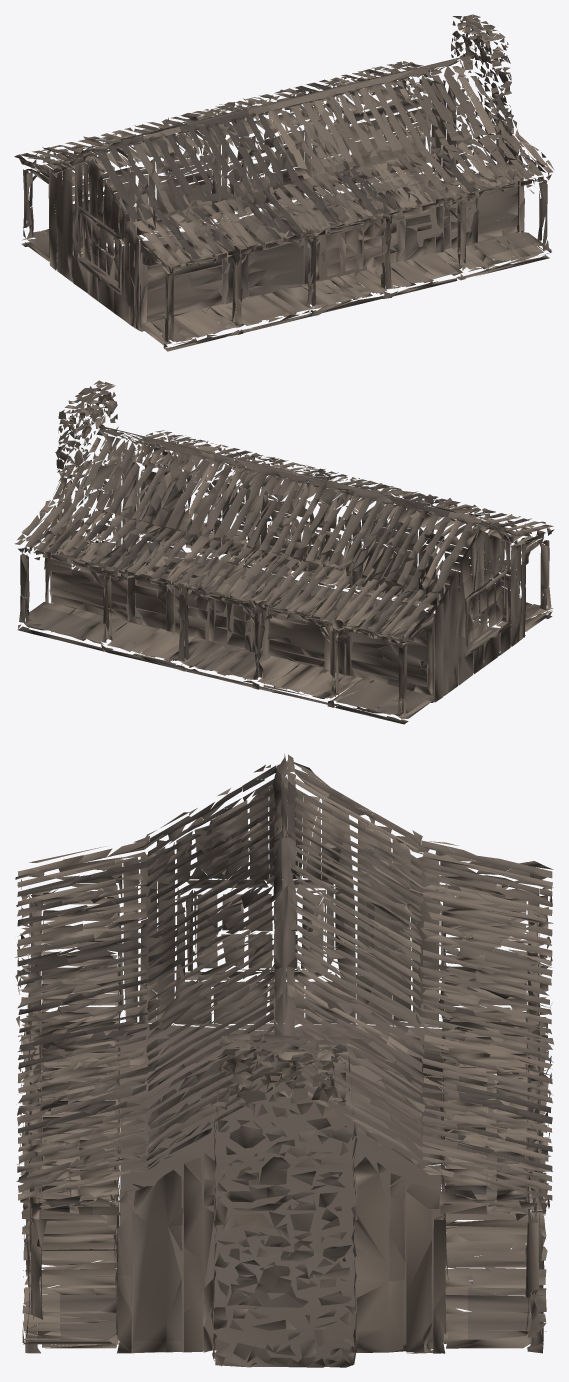
Rendered from ranch.glb.
3 renders of one model, top to bottom at view 1: azimuth 30°, elevation 25°; view 2: azimuth 150°, elevation 25°; view 3: azimuth 270°, elevation 25°, orthographic. The views are drawn at different scales.
Visible parts, largest first — view 1: LO.001; view 2: LO.001; view 3: LO.001.
Part boxes in pixels (x1=…): LO.001: x1=14, y1=14, x2=554, y2=351; LO.001: x1=14, y1=380, x2=554, y2=724; LO.001: x1=15, y1=754, x2=553, y2=1367.
Size of the model in its own units: 1.9 by 0.8077 by 1.25.
1 material, 1 textured.
